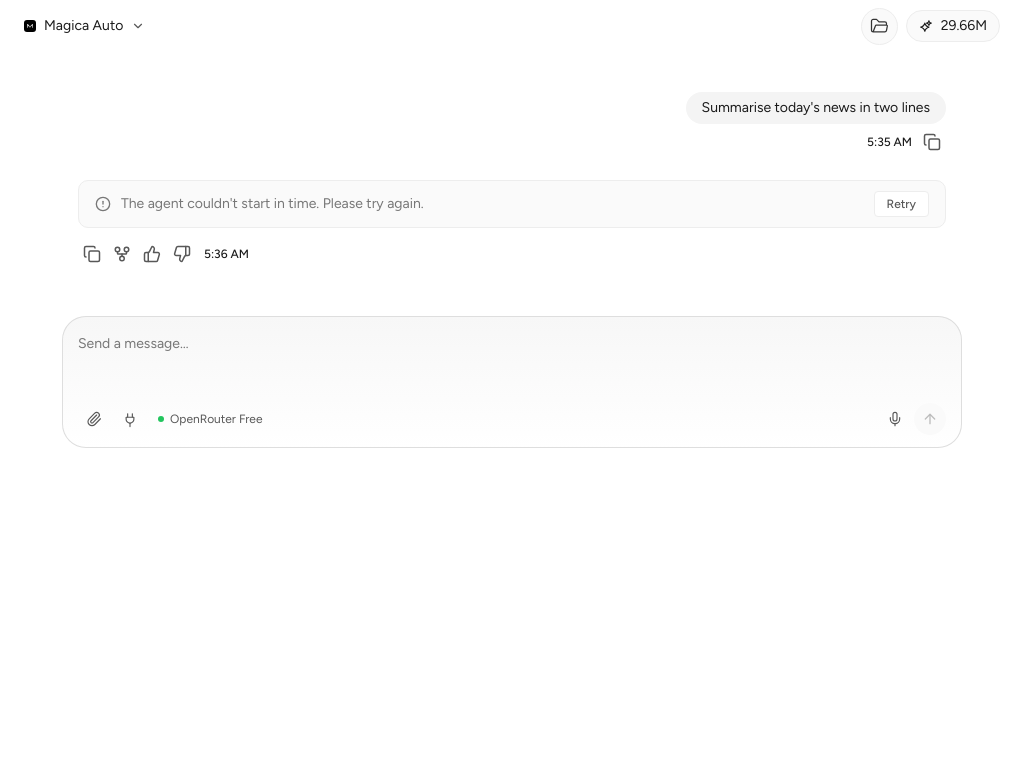
it: when the retry is turned down › leaves the failed reply exactly as it was
This screenshot has width=1024, height=768.
Expected: the text "The agent couldn't start in time. Please try again." is shown, [121,195,424,212]
Click the button "Retry" at (901, 204), box [874,191,929,217]
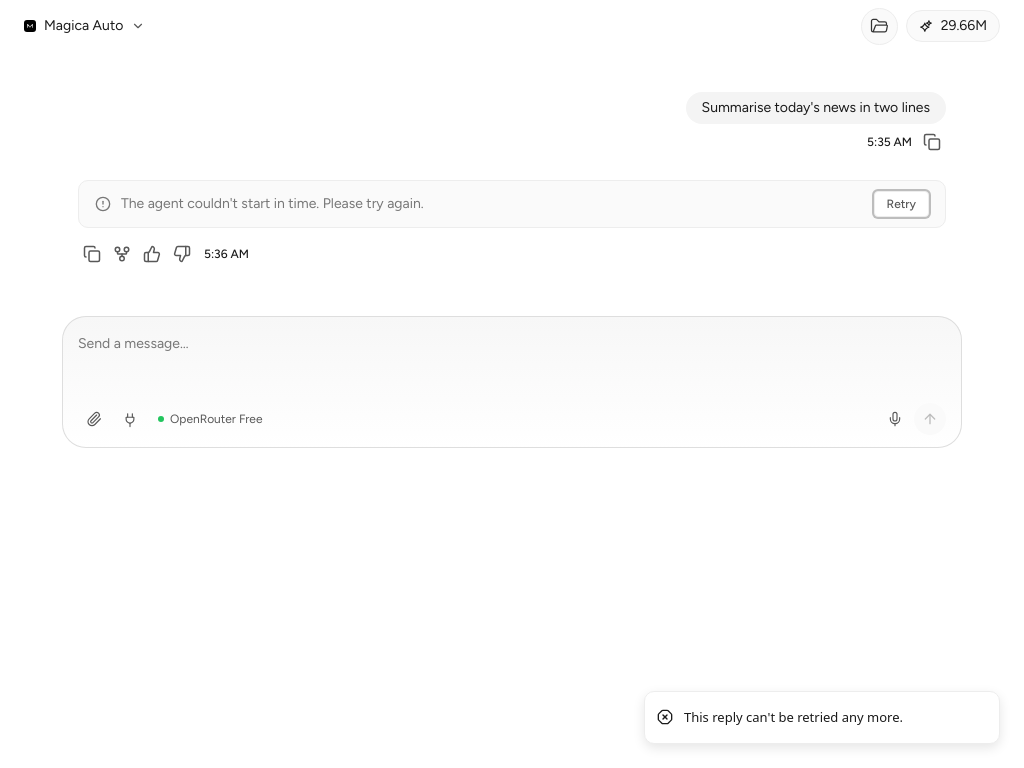
Expected: the message shows "The agent couldn't start in time. Please try again.", [121,195,424,212]
Expected: the text "This reply can't be retried any more." is shown, [684,708,903,727]
